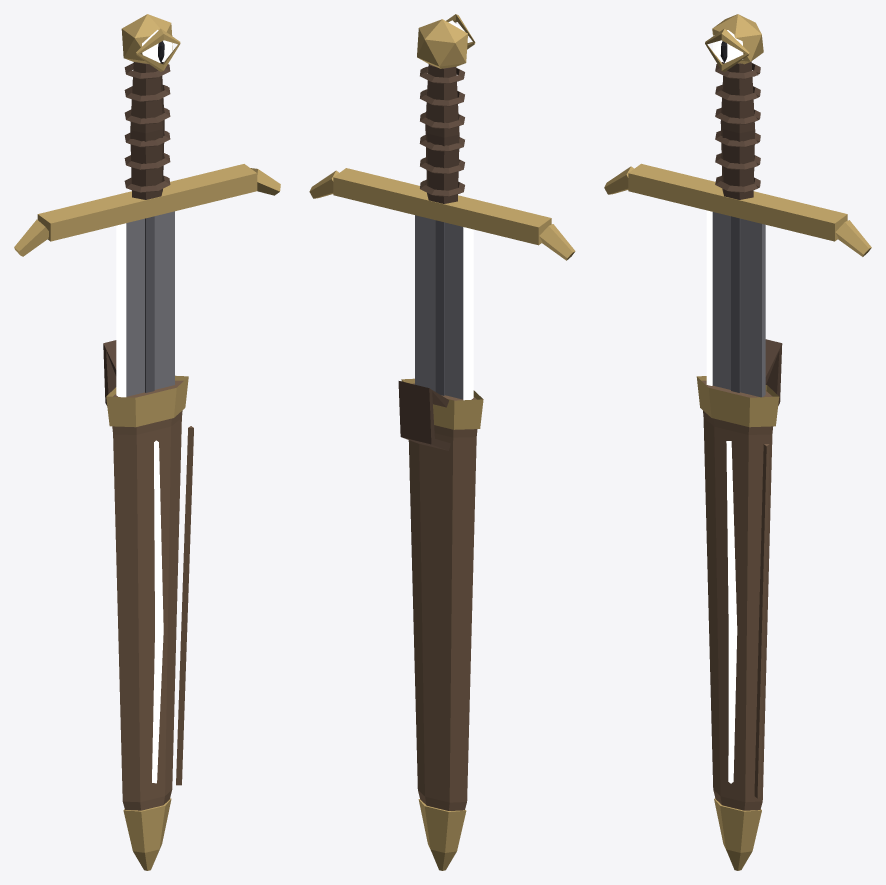
File: relic-blade.glb
The picture shows the model from 3 angles, left to right: view 1: azimuth 30°, elevation 25°; view 2: azimuth 150°, elevation 25°; view 3: azimuth 330°, elevation 25°; orthographic projection.
Parts seen in each view (by area): view 1: knife_body; view 2: knife_body; view 3: knife_body.
Boxes of the visible parts, x1=… form: knife_body: x1=14, y1=14, x2=280, y2=870; knife_body: x1=309, y1=14, x2=575, y2=870; knife_body: x1=604, y1=14, x2=871, y2=870.
Bounding box in the file's own units: 0.3074 × 0.9495 × 0.091.
